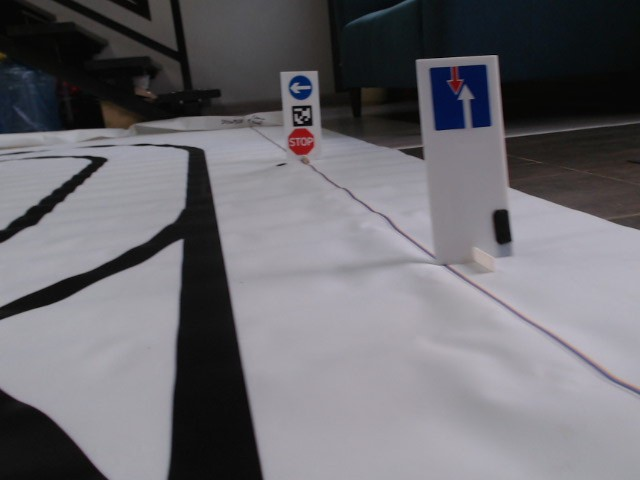Stop: (286, 127, 315, 156)
priority_movement: (428, 62, 495, 133)
